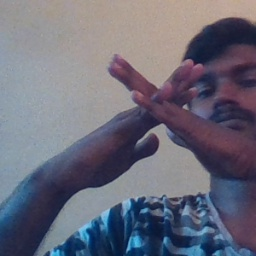W: (95, 41, 215, 169)
